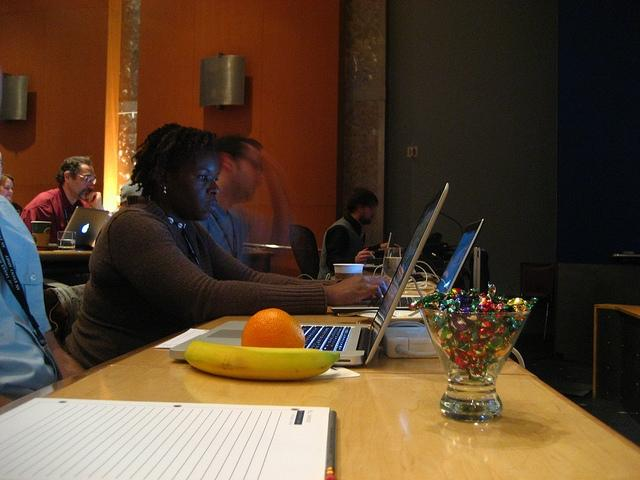banana: (184, 341, 340, 380)
orange: (241, 308, 306, 348)
